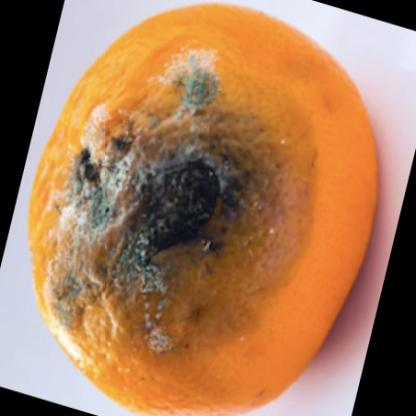rotten: (30, 5, 379, 416)
